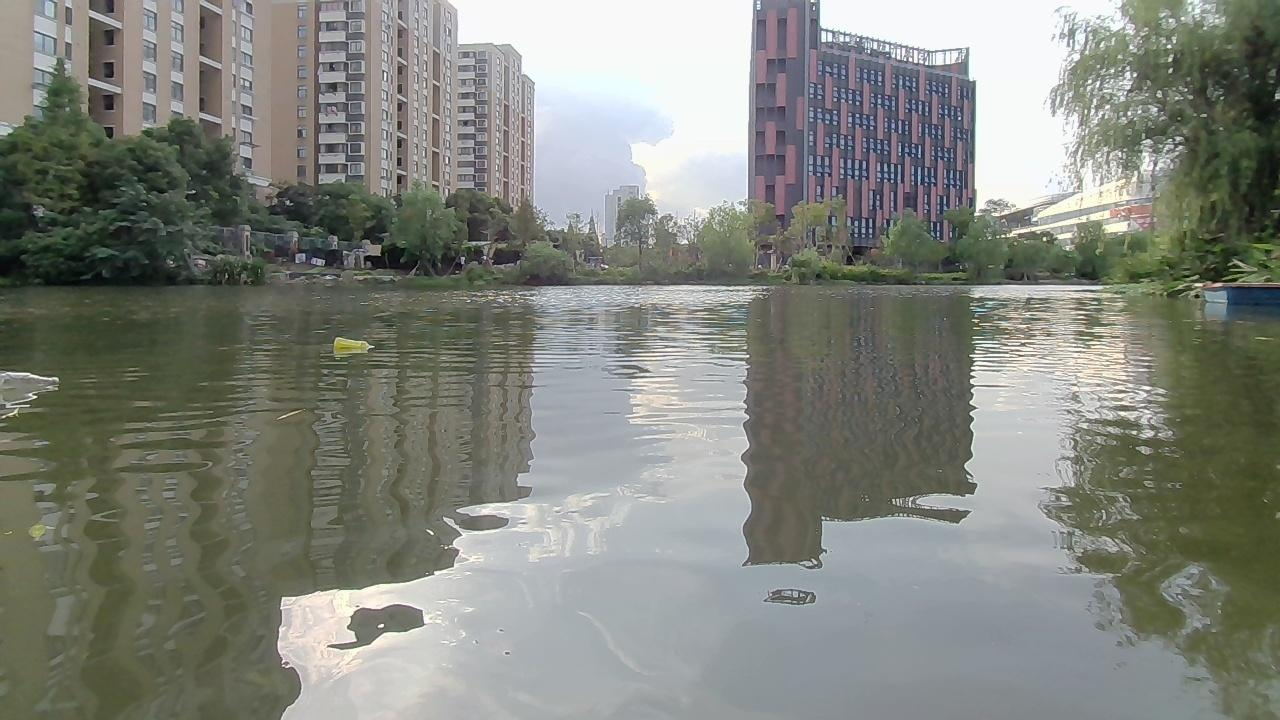bottle: (0, 361, 56, 392), (326, 329, 380, 360)
